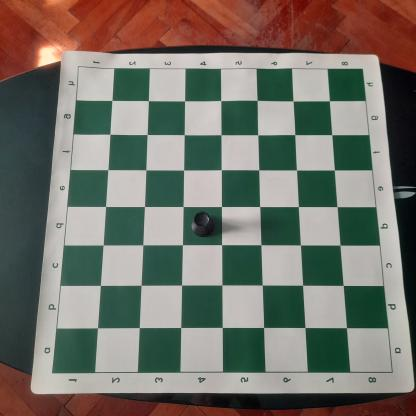black-rook: (190, 210, 216, 239)
